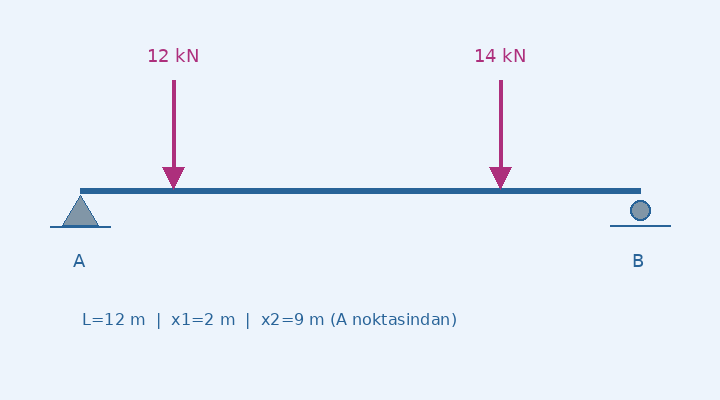pin_support: (61, 190, 99, 226)
point_load: (159, 76, 187, 190), (486, 76, 514, 190)
roller_support: (625, 196, 655, 227)
